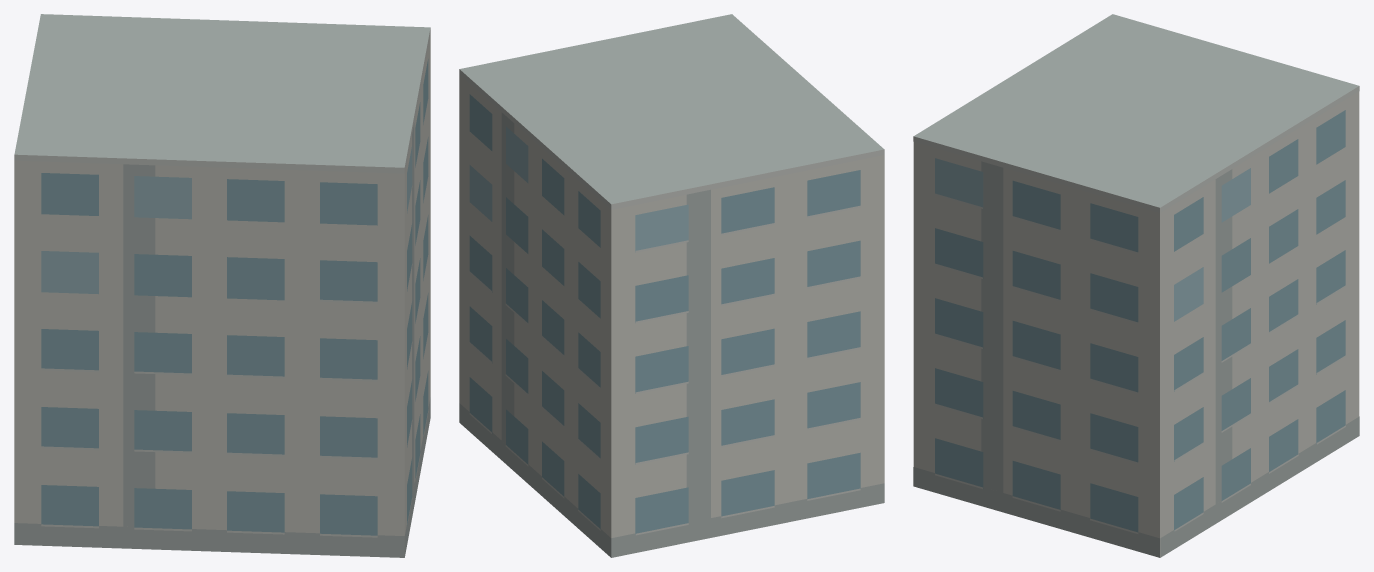
The model's file is survey-upis-32834755.glb.
3 renders of one model, left to right at view 1: azimuth 30°, elevation 25°; view 2: azimuth 150°, elevation 25°; view 3: azimuth 270°, elevation 25°, orthographic. The views are drawn at different scales.
Visible parts, largest first — view 1: survey-upis-32834755.tmp; view 2: survey-upis-32834755.tmp; view 3: survey-upis-32834755.tmp.
Part boxes in pixels (x1,y1,x2,y2): survey-upis-32834755.tmp: (14, 14, 430, 557); survey-upis-32834755.tmp: (459, 14, 884, 557); survey-upis-32834755.tmp: (913, 14, 1359, 557).
Bounding box in the file's own units: 18.98 × 15.98 × 18.46.
